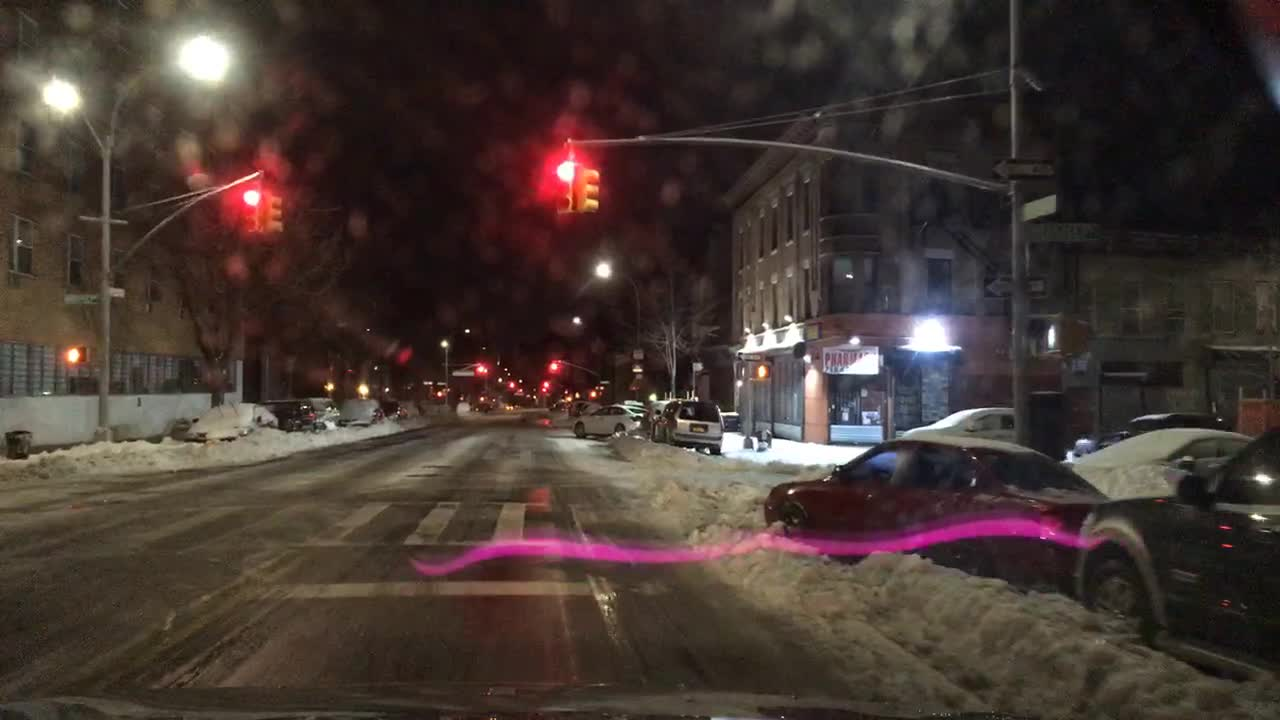car: (762, 436, 1108, 588), (1080, 426, 1280, 683), (1062, 429, 1252, 492), (1074, 405, 1231, 442), (896, 406, 1016, 448), (652, 396, 724, 454), (185, 402, 278, 442), (573, 399, 645, 440), (263, 399, 318, 434), (308, 396, 345, 433), (343, 402, 377, 422), (381, 399, 407, 425), (569, 402, 590, 416), (583, 402, 606, 414), (550, 399, 564, 414), (475, 402, 493, 411), (504, 402, 516, 411)
traffic light: (240, 181, 263, 233), (576, 167, 599, 213), (1034, 319, 1059, 356), (556, 161, 573, 211), (266, 191, 285, 233), (67, 343, 88, 366), (754, 359, 770, 380), (589, 383, 596, 396), (477, 363, 483, 377), (543, 377, 549, 390), (552, 359, 555, 377), (509, 377, 513, 390)
traffic sign: (991, 155, 1057, 181), (982, 273, 1046, 297), (1017, 193, 1059, 221), (65, 290, 100, 305), (738, 350, 770, 360), (105, 284, 123, 297), (454, 370, 475, 377), (598, 377, 610, 385), (435, 380, 447, 386)
